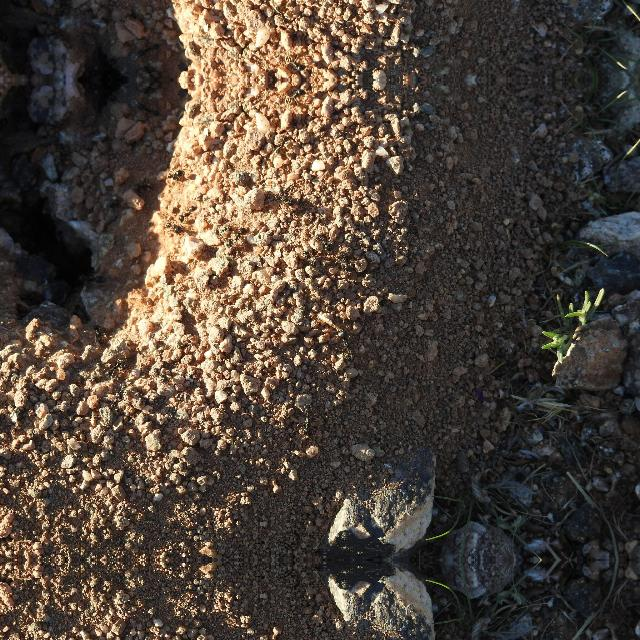Messor: (298, 400, 318, 442), (308, 228, 336, 256), (272, 186, 302, 212), (166, 162, 198, 186), (86, 321, 110, 351), (337, 252, 361, 282), (271, 132, 295, 158), (271, 2, 295, 28), (100, 358, 128, 378), (220, 230, 250, 248), (175, 204, 198, 226), (202, 222, 232, 236), (288, 85, 306, 108), (111, 382, 131, 402), (288, 52, 306, 74), (150, 366, 170, 384), (301, 247, 317, 267), (162, 222, 184, 235)
